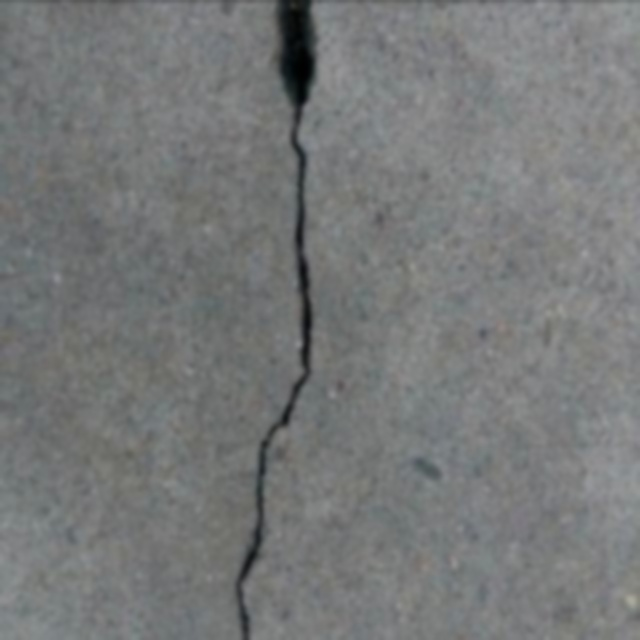SurfaceCrack: (194, 0, 366, 640)
